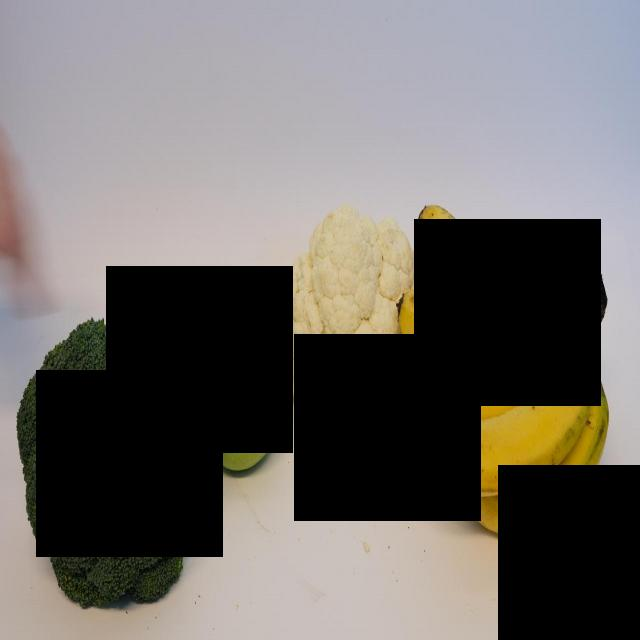apple: (189, 283, 296, 483)
banana: (466, 372, 616, 552), (431, 345, 611, 493), (393, 269, 583, 369), (417, 194, 574, 314), (402, 331, 577, 428)
broccoli: (11, 312, 196, 616)
cauliflower: (281, 194, 424, 450)
